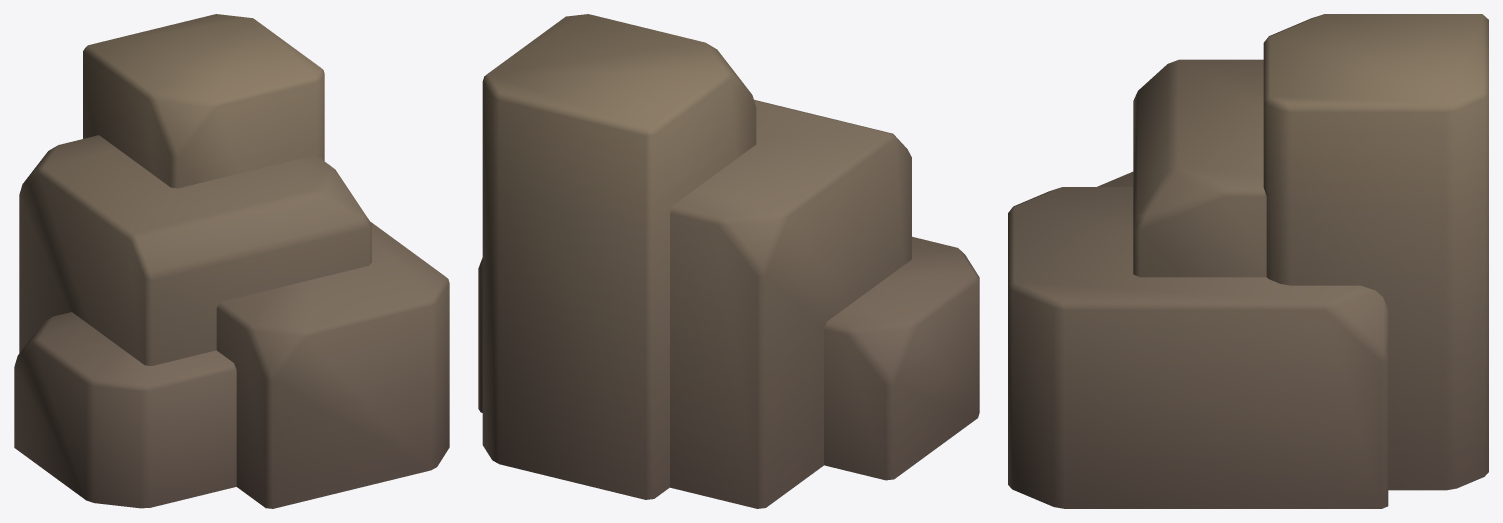
The model's file is dirt1_bevel.fbx.
3 views of the same model, side by side, from view 1: azimuth 30°, elevation 25°; view 2: azimuth 150°, elevation 25°; view 3: azimuth 270°, elevation 25° (orthographic). The views are drawn at different scales.
Visible parts, largest first — view 1: dirt1; view 2: dirt1; view 3: dirt1.
Boxes of the visible parts, x1,y1,x2,y2 form: dirt1: (14,14,449,508); dirt1: (478,14,979,508); dirt1: (1008,14,1488,508).
Bounding box in the file's own units: 146 × 134 × 152.
